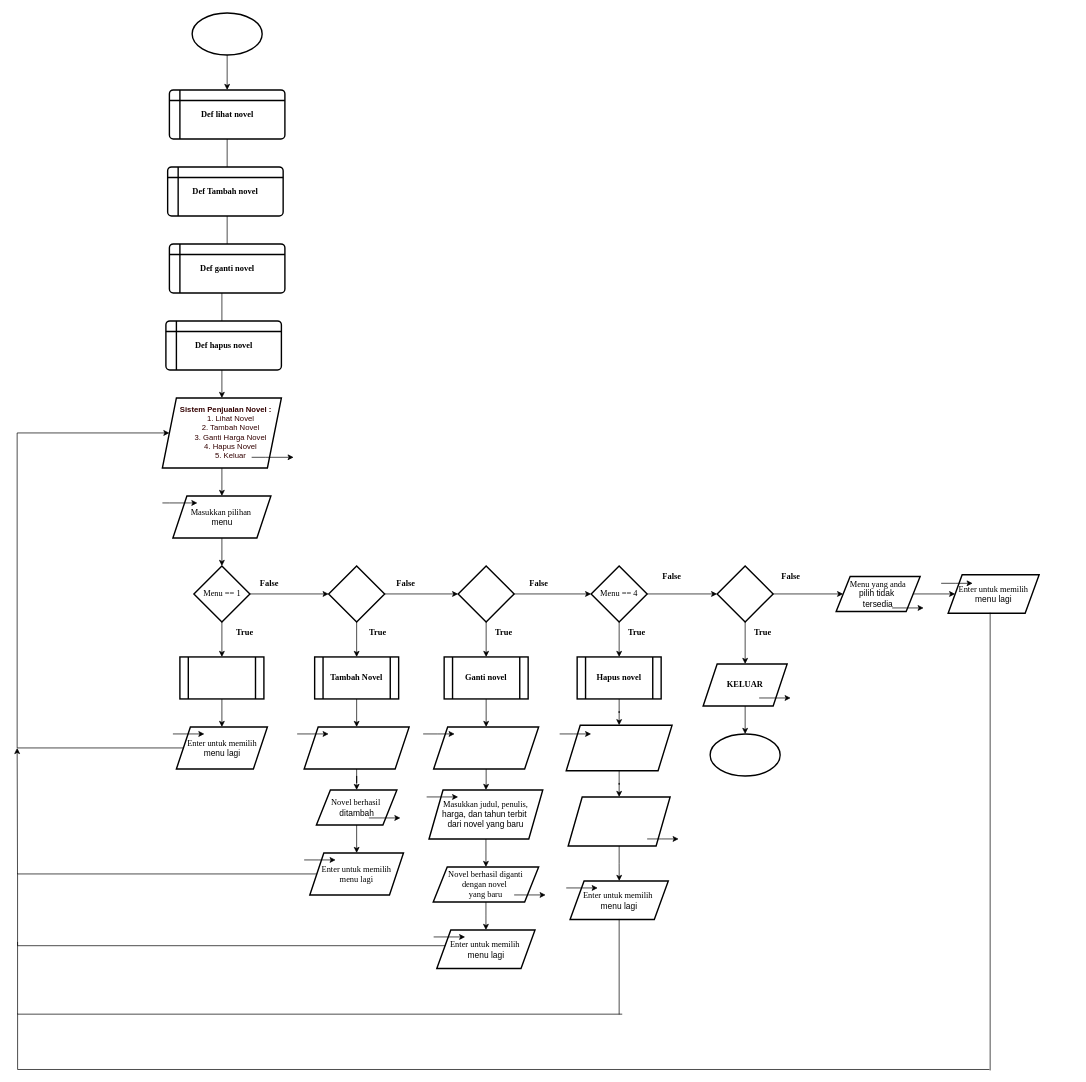
Some shapes in this 1086 by 1082 pixel diagram are drawn without their labels. The shapes that lost their labels are listed below. From the top down, each one's centre as x and y in pixels, then its label:
(226,33): Start
(356,593): Menu == 2
(485,593): Menu == 3
(745,593): Menu == 5
(221,677): Lihat novel
(356,747): Masukkan Judul, Author, Harga, Tahun terbit novel yang mau di tambah
(486,747): Masukkan index dari novel yang mau diganti
(618,747): Masukkan index dari novel yang mau dihapus
(744,754): END
(618,821): Novel berhasil dihapus
